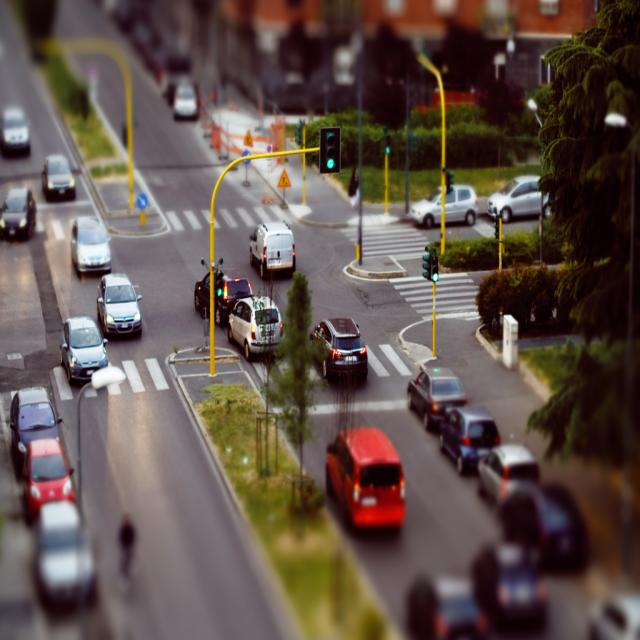car: (34, 496, 97, 616), (96, 270, 140, 338), (40, 153, 75, 200), (173, 76, 198, 118)
